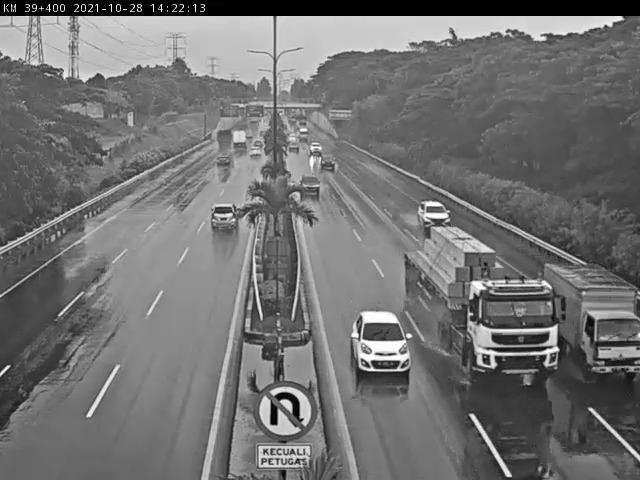big truck: (410, 242, 566, 389)
car: (344, 307, 412, 382), (408, 196, 453, 234), (211, 199, 240, 232), (299, 175, 322, 199), (211, 153, 234, 173), (316, 155, 337, 172), (246, 145, 264, 164)
small truck: (565, 263, 640, 386)
